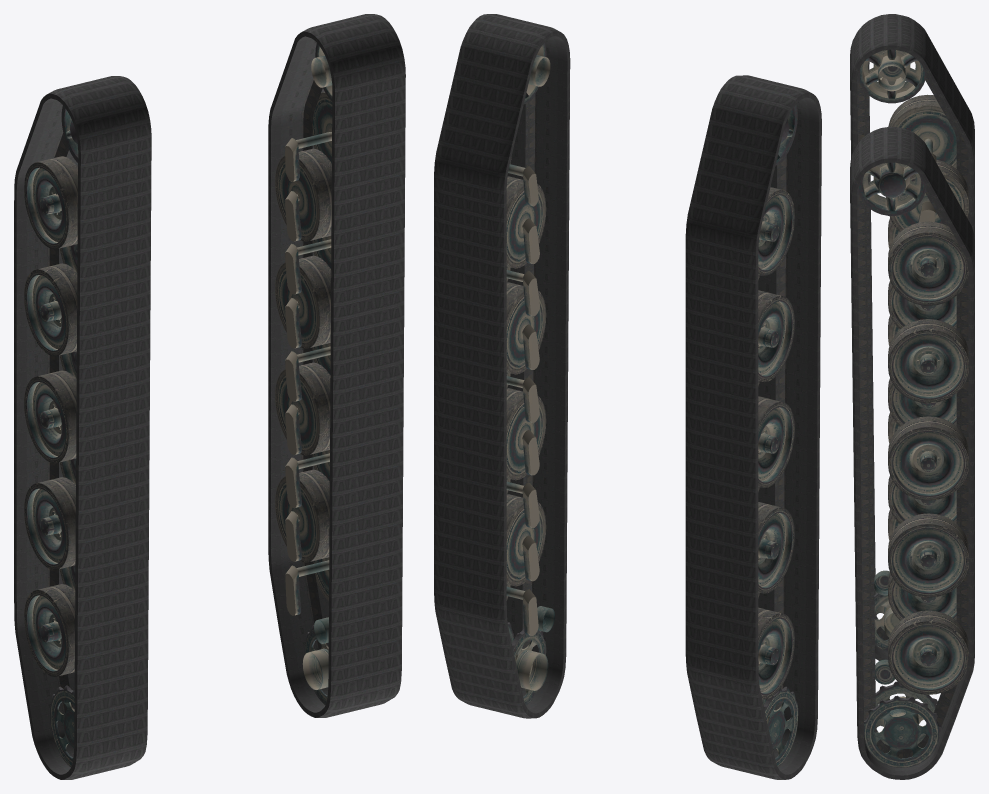
The model's file is Chassis.glb.
3 views of the same model, side by side, from view 1: azimuth 30°, elevation 25°; view 2: azimuth 150°, elevation 25°; view 3: azimuth 270°, elevation 25° (orthographic). The views are drawn at different scales.
Visible parts, largest first — view 1: set_1_group_0, set_0_group_0, set_3_group_0, set_2_group_0; view 2: set_1_group_0, set_0_group_0, set_3_group_0, set_2_group_0; view 3: set_3_group_0, set_0_group_0, set_2_group_0, set_1_group_0.
Boxes of the visible parts, box(x1,y1,x2,y2) form: set_1_group_0: box(14, 76, 151, 779); set_0_group_0: box(268, 14, 405, 717); set_3_group_0: box(275, 43, 332, 704); set_2_group_0: box(24, 105, 78, 767); set_1_group_0: box(685, 75, 821, 779); set_0_group_0: box(434, 14, 570, 718); set_3_group_0: box(506, 43, 554, 705); set_2_group_0: box(758, 104, 798, 766); set_3_group_0: box(857, 162, 968, 767); set_0_group_0: box(850, 126, 974, 779); set_2_group_0: box(857, 49, 968, 652); set_1_group_0: box(850, 14, 974, 660).
Bounding box in the file's own units: 3.41 × 6.88 × 1.25.
4 materials, 4 textured.
